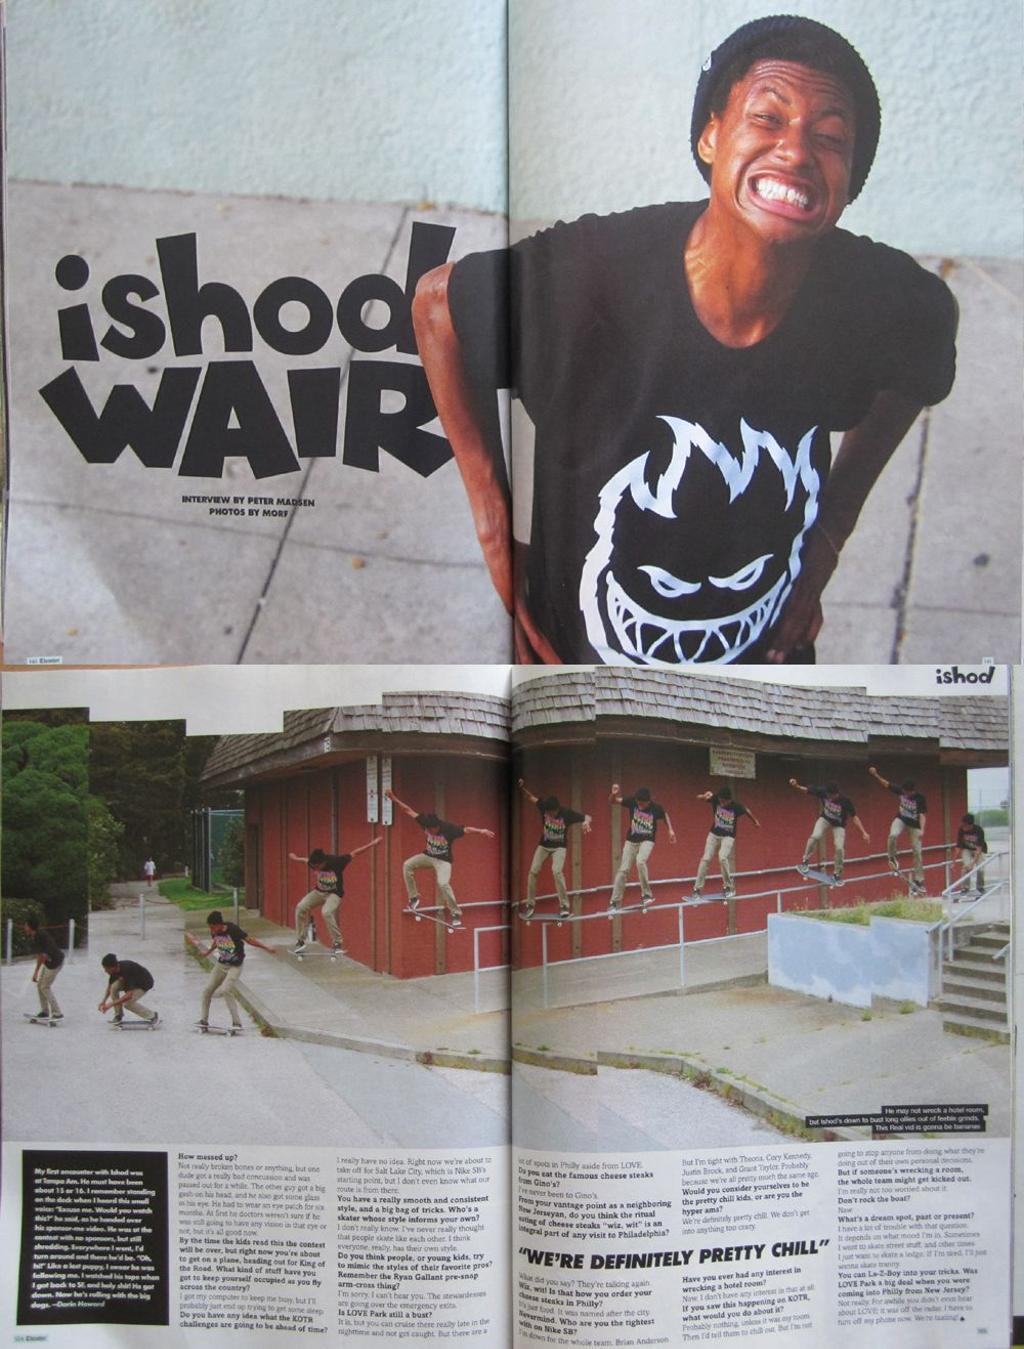face: (729, 66, 847, 237)
